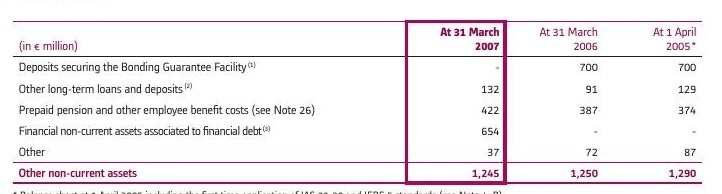table: (0, 0, 722, 194)
